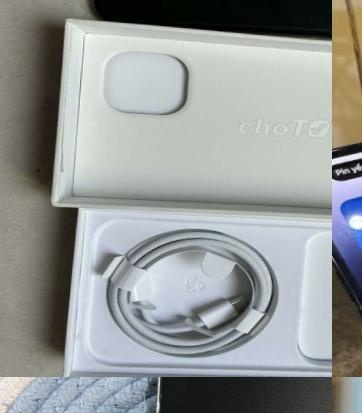scratch: (150, 394, 167, 413)
